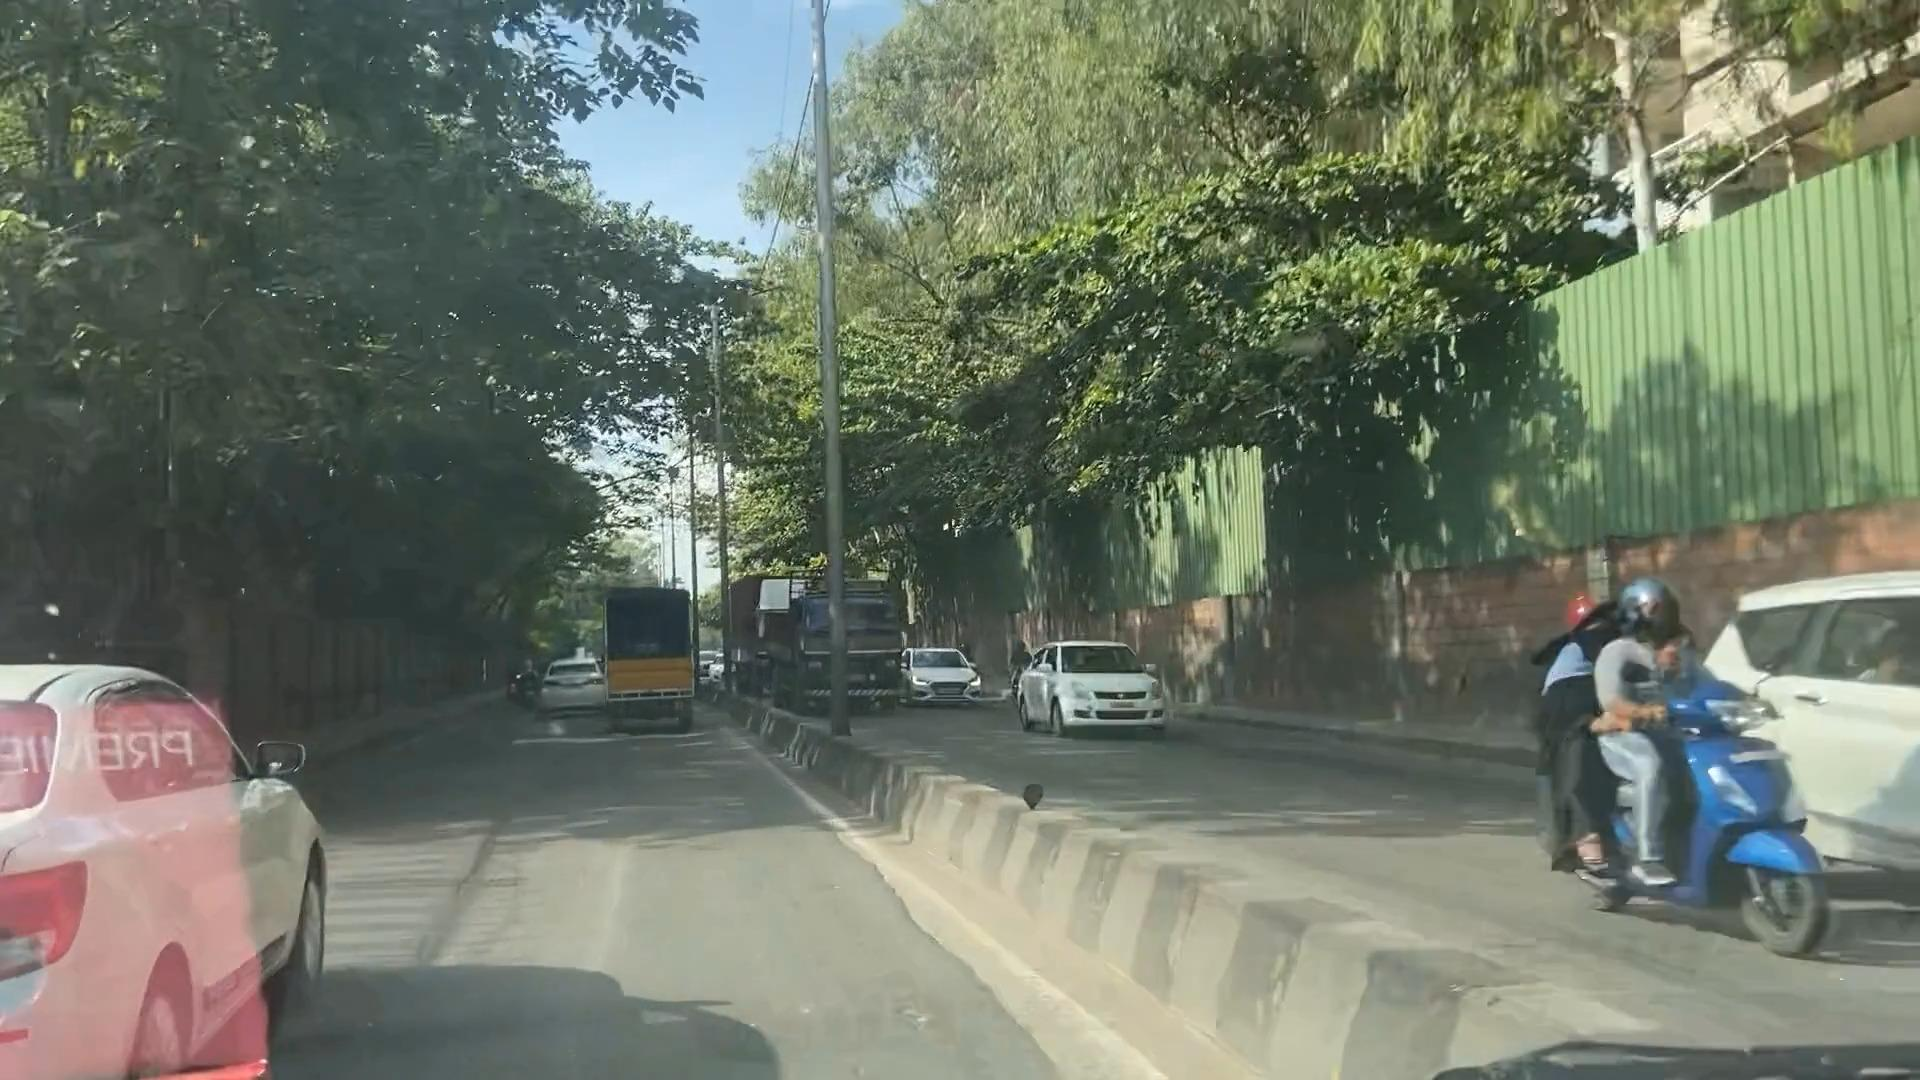HMV: (719, 546, 923, 724), (588, 550, 713, 748)
